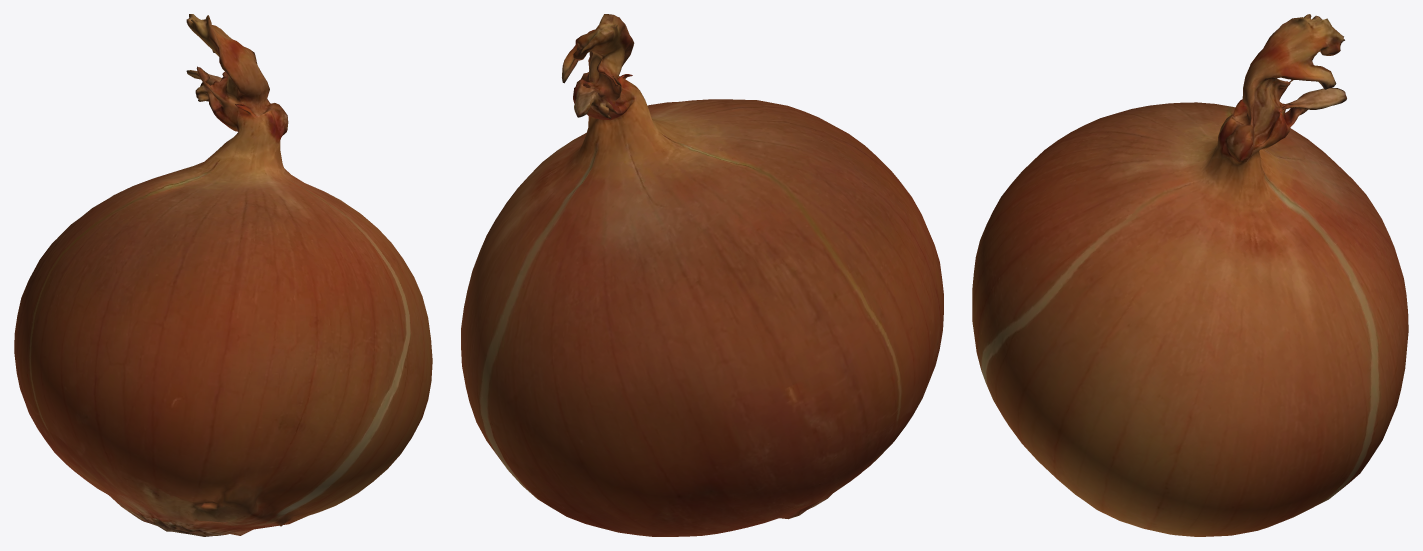
File: yellow_onion.glb
The picture shows the model from 3 angles, left to right: view 1: azimuth 30°, elevation 25°; view 2: azimuth 150°, elevation 25°; view 3: azimuth 270°, elevation 25°; orthographic projection. The views are drawn at different scales.
Parts seen in each view (by area): view 1: yellow_onion; view 2: yellow_onion; view 3: yellow_onion.
Boxes of the visible parts, bbox=[...] form: yellow_onion: bbox=[14, 14, 432, 536]; yellow_onion: bbox=[461, 14, 943, 536]; yellow_onion: bbox=[972, 14, 1408, 536].
Size of the model in its own units: 0.0725 by 0.0864 by 0.0686.
1 material, 1 textured.
